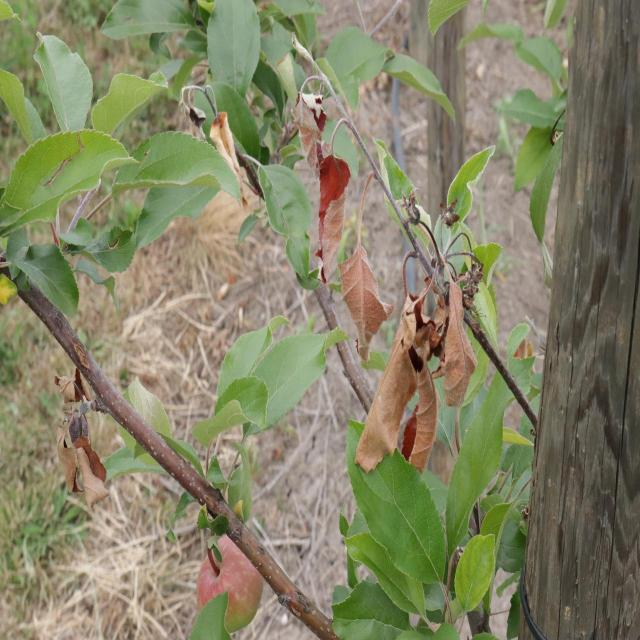-FireBlight-: (350, 212, 487, 476), (51, 357, 131, 512), (295, 81, 347, 292), (336, 174, 393, 356), (192, 81, 248, 214)
